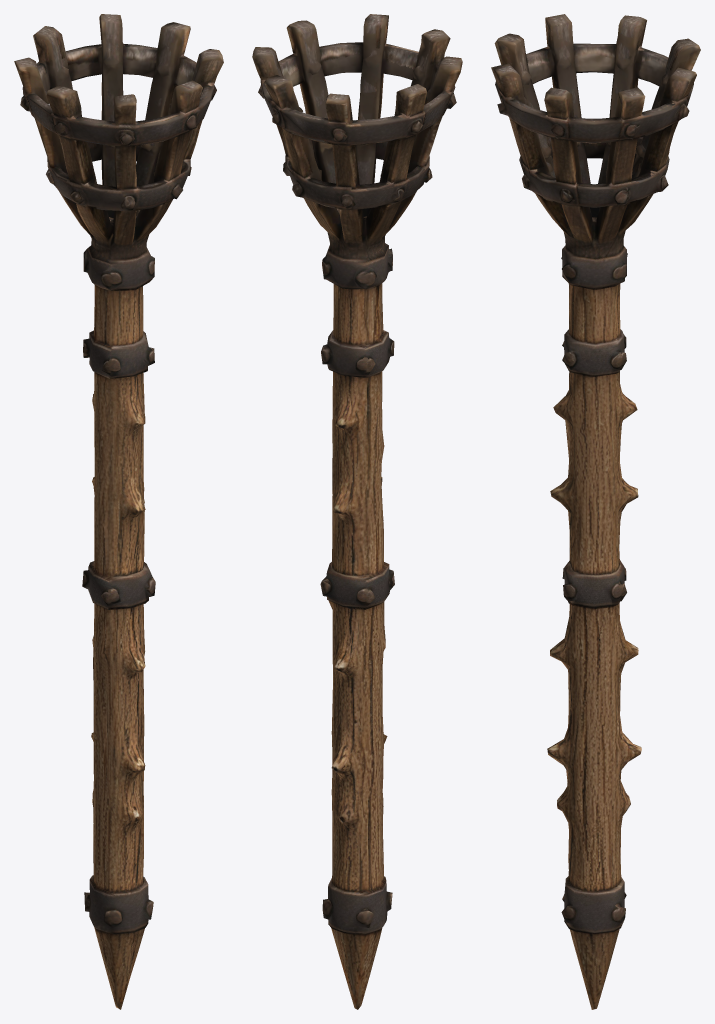
Rendered from tripo_convert_c1bc2054-25d5-49fd-96ce-5bb602d08e1b.fbx.
3 views of the same model, side by side, from view 1: azimuth 30°, elevation 25°; view 2: azimuth 150°, elevation 25°; view 3: azimuth 270°, elevation 25° (orthographic).
Visible parts, largest first — view 1: tripo_node_c1bc2054; view 2: tripo_node_c1bc2054; view 3: tripo_node_c1bc2054.
Boxes of the visible parts, bbox=[...] form: tripo_node_c1bc2054: bbox=[14, 14, 223, 1009]; tripo_node_c1bc2054: bbox=[252, 14, 462, 1009]; tripo_node_c1bc2054: bbox=[491, 14, 700, 1009].
Bounding box in the file's own units: 0.1899 × 0.9838 × 0.1961.
Materials: 1 (1 with a texture image).
